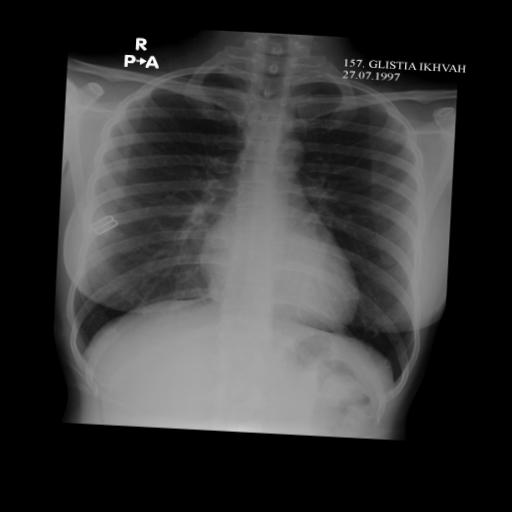normal: (61, 38, 440, 402)
